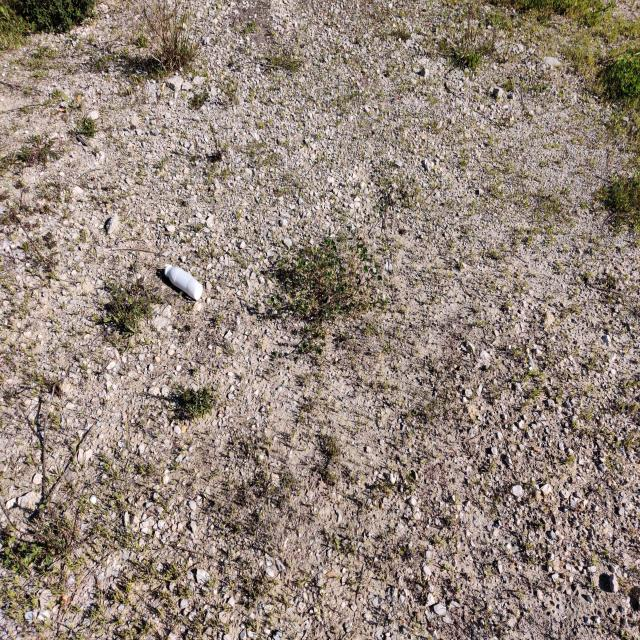litter: (163, 261, 204, 299)
